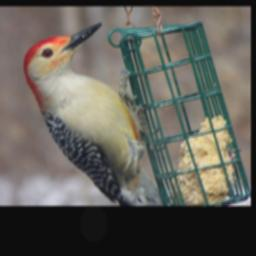Woodpecker: (23, 22, 160, 205)
